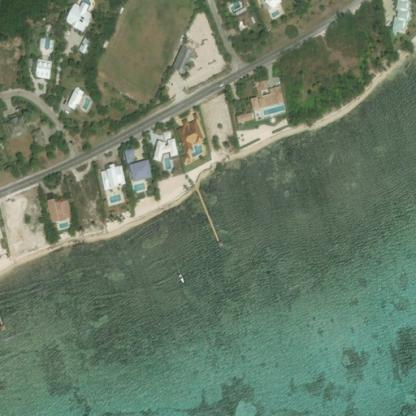ship: (172, 269, 190, 285)
